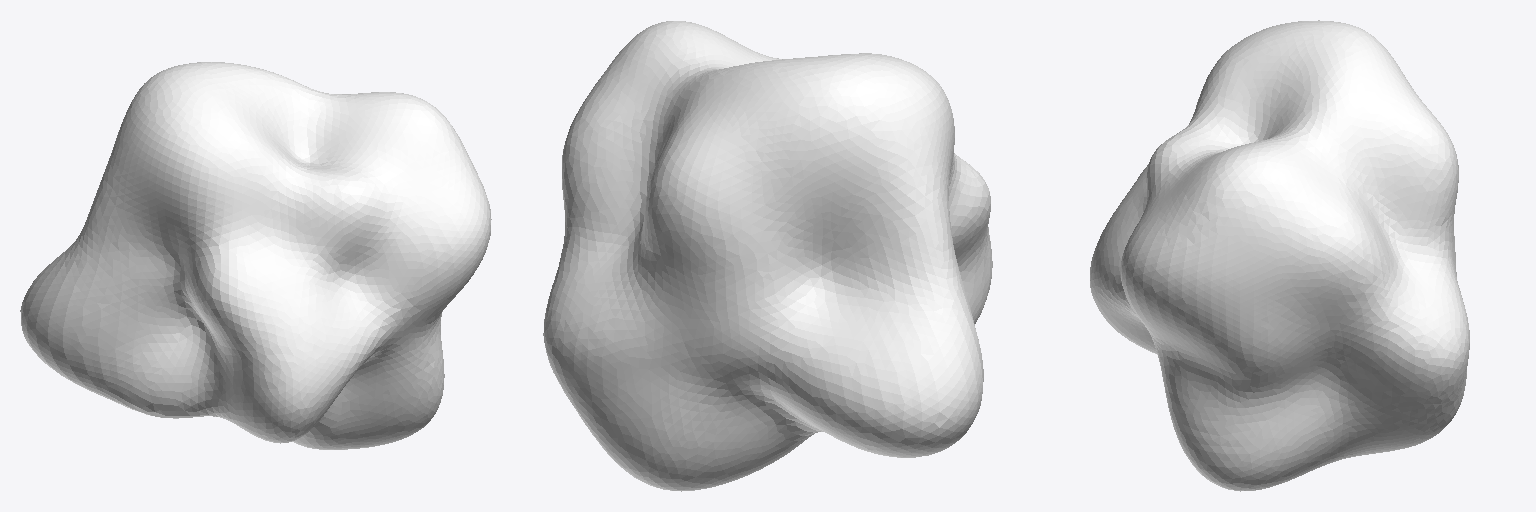
URDF robot description (BigGlaven5):
<robot name="BigGlaven5">
	<link name="_name">
		<visual>
			<origin rpy="0 0 0" xyz="-0.0008795873577402973 -0.00012763844274347766 -0.00039776407208365084" />
			<geometry>
				<mesh filename="BigGlaven5.obj" scale="0.001 0.001 0.001" />
			</geometry>
			<material name="texture">
				<color rgba="1.0 1.0 1.0 1.0" />
			</material>
		</visual>
		<collision>
			<geometry>
				<mesh filename="BigGlaven5_vhacd.obj" scale="0.001 0.001 0.001" />
			</geometry>
		<origin rpy="0 0 0" xyz="-0.0008795873577402973 -0.00012763844274347766 -0.00039776407208365084" /></collision>
		<inertial>
			<mass value="1.0" />
			<inertia ixx="1.0" ixy="0.0" ixz="0.0" iyy="1.0" iyz="0.0" izz="1.0" />
		</inertial>
	</link>
</robot>

--- Render facts (derived) ---
3 views of the same robot in one strip: view 1: azimuth 30°, elevation 25°; view 2: azimuth 150°, elevation 25°; view 3: azimuth 270°, elevation 25° (orthographic).
Model BigGlaven5 with 1 links and 0 joints (none), rooted at _name, posed every joint at zero.
Visible links, largest first — view 1: _name; view 2: _name; view 3: _name.
Link boxes in pixels (x1,y1,x2,y2): _name: (20,62,491,449); _name: (543,21,992,491); _name: (1090,20,1469,491).
Bounding box of the posed robot: 0.0464 × 0.04 × 0.0448 m (x, y, z).
1 mesh visuals loaded from 1 distinct referenced files (1 OBJ).
